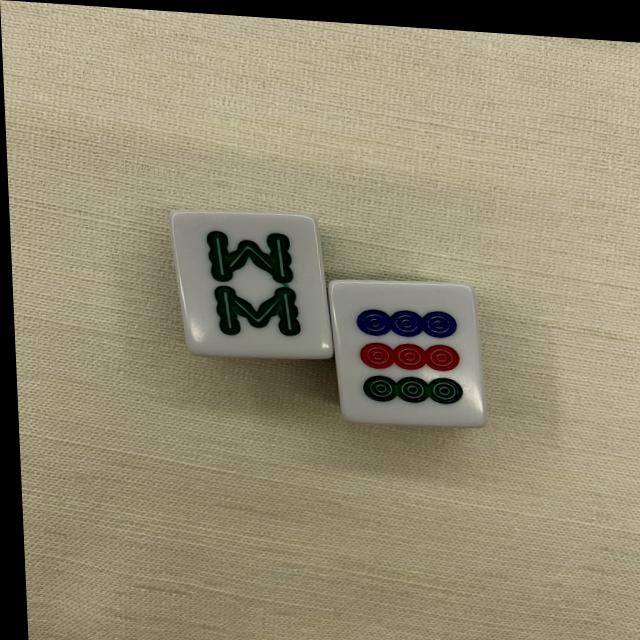8B: (170, 211, 329, 366)
9D: (332, 276, 487, 433)
